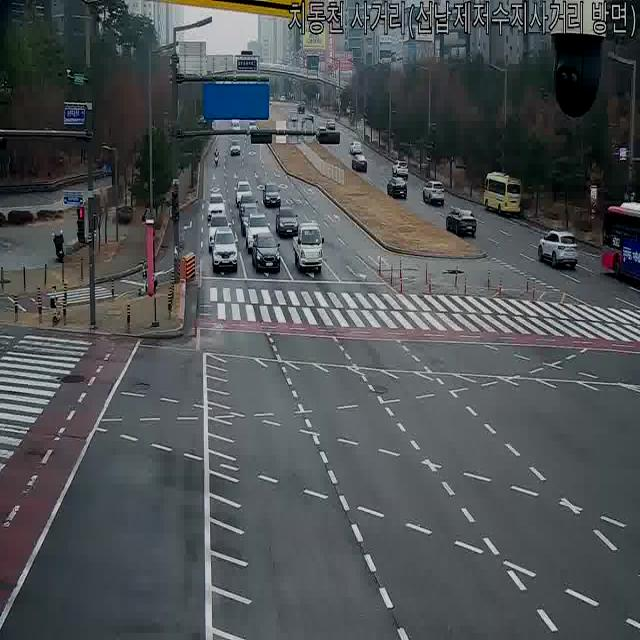Bus: (601, 202, 640, 302), (482, 172, 524, 215)
Car: (538, 229, 578, 270), (210, 228, 238, 274), (251, 232, 281, 274), (244, 213, 271, 252), (206, 213, 232, 250), (445, 208, 477, 237), (275, 206, 299, 238), (422, 180, 446, 206), (240, 207, 262, 235), (207, 192, 226, 221), (239, 193, 258, 221), (262, 182, 282, 208), (235, 180, 253, 208), (392, 159, 408, 179), (352, 154, 368, 172), (349, 139, 363, 155), (229, 138, 241, 156), (316, 126, 328, 141), (303, 117, 313, 135), (248, 120, 258, 134), (288, 110, 298, 124), (296, 102, 306, 115), (304, 112, 314, 124), (326, 119, 336, 129)
Motorcycle: (213, 148, 220, 166)
Truck: (293, 221, 325, 273)
